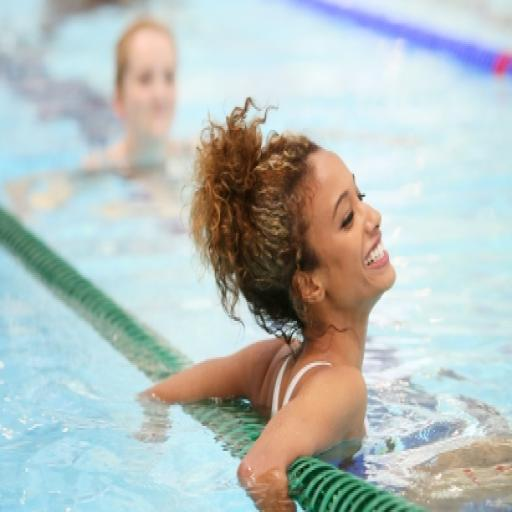swimming: (134, 94, 511, 510)
